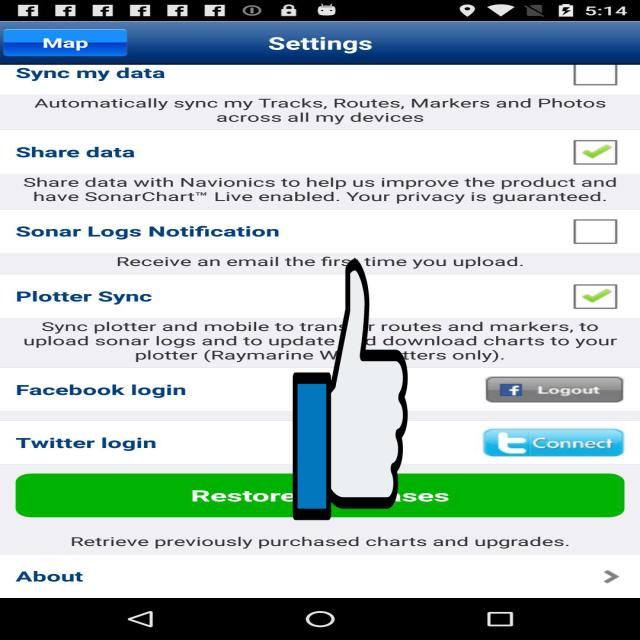privacy zuckering: (292, 253, 408, 526)
